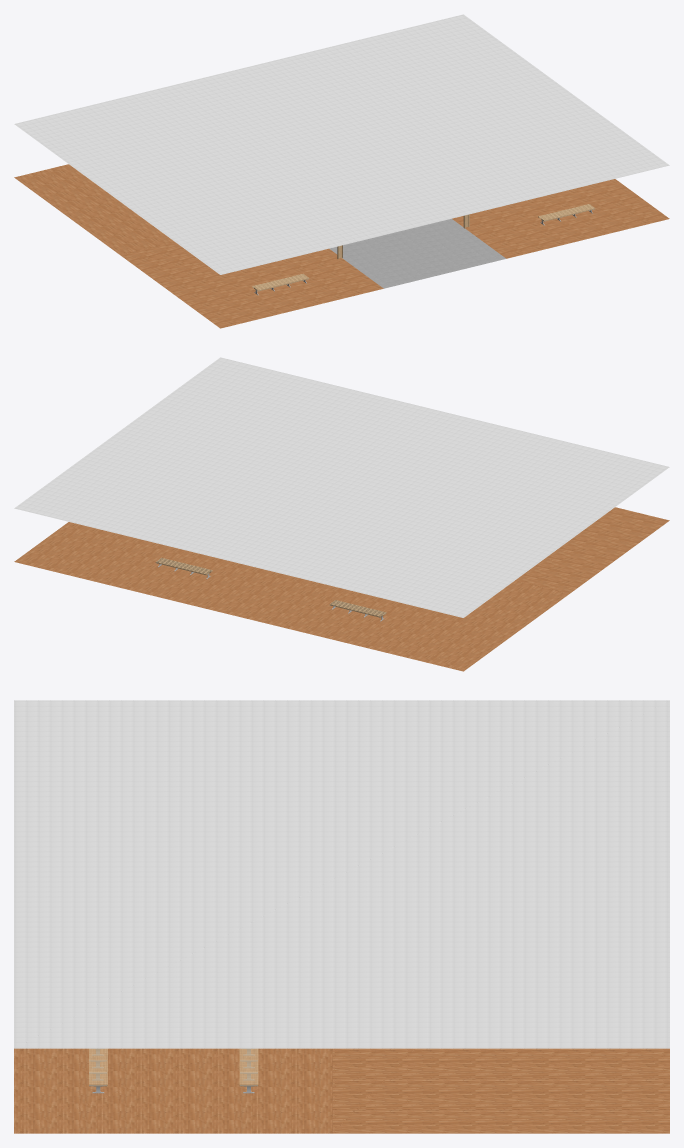
The model's file is gallery_template_01_filler.obj.
3 views of the same model, one above another, from view 1: azimuth 30°, elevation 25°; view 2: azimuth 150°, elevation 25°; view 3: azimuth 270°, elevation 25° (orthographic). The views are drawn at different scales.
Parts seen in each view (by area): view 1: filler_model pPlane11, filler_model pPlane10, filler_model pPlane12, filler_model pPlane13, pPlane14 filler_model; view 2: filler_model pPlane11, pPlane14 filler_model, filler_model pPlane10; view 3: filler_model pPlane11, pPlane14 filler_model, filler_model pPlane12.
Part boxes in pixels (x1=…): filler_model pPlane11: x1=14, y1=14, x2=669, y2=274; filler_model pPlane10: x1=120, y1=242, x2=383, y2=328; filler_model pPlane12: x1=452, y1=179, x2=669, y2=258; filler_model pPlane13: x1=329, y1=218, x2=506, y2=288; pPlane14 filler_model: x1=14, y1=164, x2=174, y2=254; filler_model pPlane11: x1=14, y1=357, x2=669, y2=617; pPlane14 filler_model: x1=14, y1=522, x2=568, y2=671; filler_model pPlane10: x1=515, y1=507, x2=669, y2=593; filler_model pPlane11: x1=14, y1=700, x2=669, y2=1048; pPlane14 filler_model: x1=332, y1=1048, x2=669, y2=1133; filler_model pPlane12: x1=14, y1=1048, x2=332, y2=1133.
Bounding box in the file's own units: 44 × 5 × 35.
Materials: 6 (6 with a texture image).
